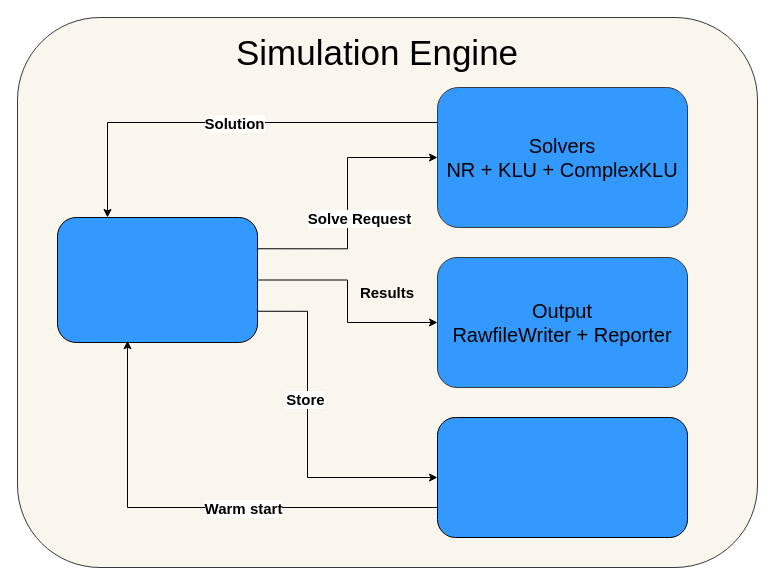
Some shapes in this 775 by 585 pixel diagram are drawn without their labels. Each missing label, with the centre of its shape:
Analyses OP / DC / AC / TRAN: the point at 157,279
Shared State lastSolution_ vector: the point at 562,477
